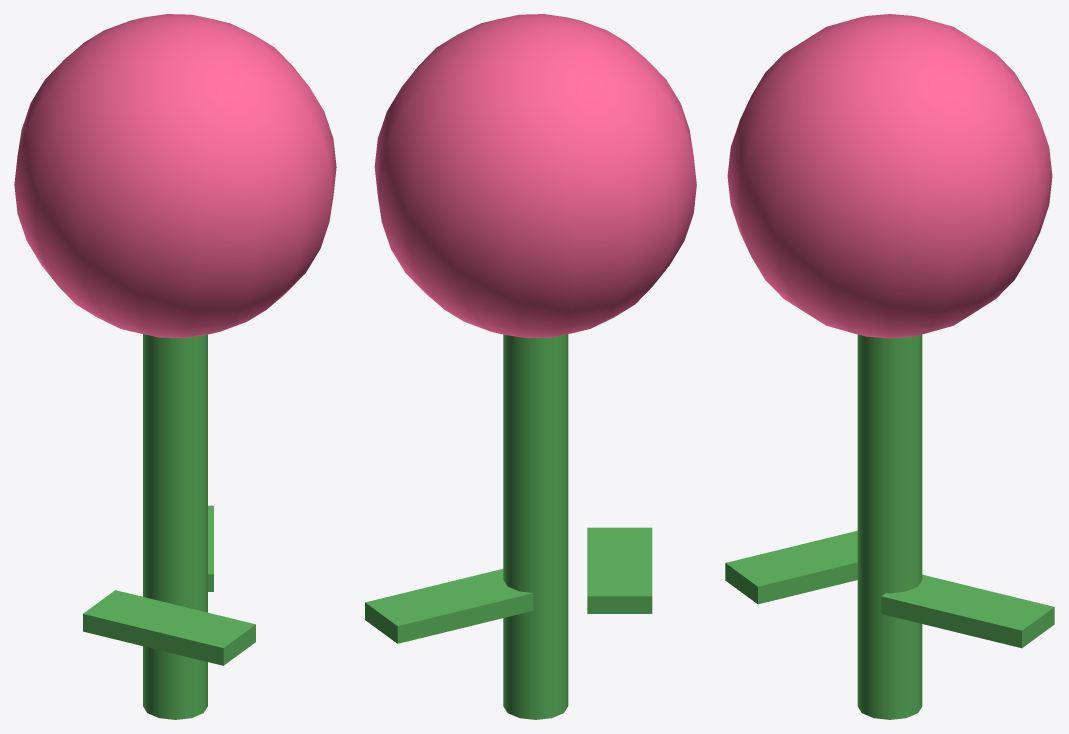
File: flower_basic.gltf
3 views of the same model, side by side, from view 1: azimuth 30°, elevation 25°; view 2: azimuth 150°, elevation 25°; view 3: azimuth 270°, elevation 25° (orthographic).
Visible parts, largest first — view 1: FlowerHead, Stem, LeafLeft, LeafRight; view 2: FlowerHead, Stem, LeafRight, LeafLeft; view 3: FlowerHead, Stem, LeafRight, LeafLeft.
Part boxes in pixels (box(x1,y1,x2,y2)): FlowerHead: box(14, 14, 336, 338); Stem: box(143, 334, 207, 719); LeafLeft: box(83, 590, 255, 665); LeafRight: box(208, 505, 213, 591); FlowerHead: box(374, 14, 696, 338); Stem: box(503, 334, 568, 719); LeafRight: box(365, 569, 533, 643); LeafLeft: box(587, 527, 652, 613); FlowerHead: box(727, 14, 1052, 338); Stem: box(857, 334, 922, 719); LeafRight: box(881, 574, 1054, 648); LeafLeft: box(725, 530, 857, 604).
Size of the model in its own units: 0.5 by 1.15 by 0.5065.
